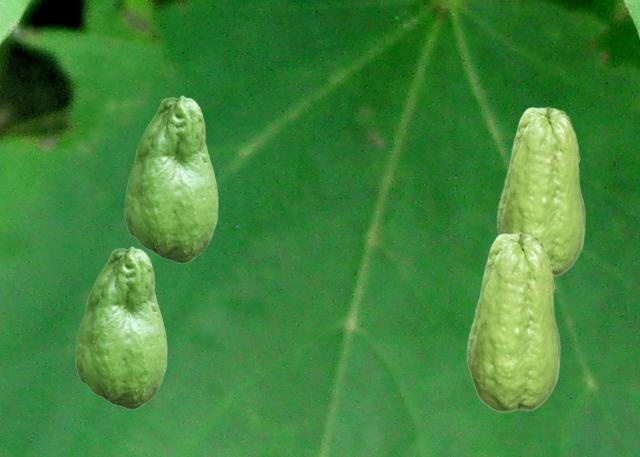sayote: (466, 232, 560, 412), (124, 95, 217, 262), (496, 106, 585, 276), (75, 246, 166, 408)
